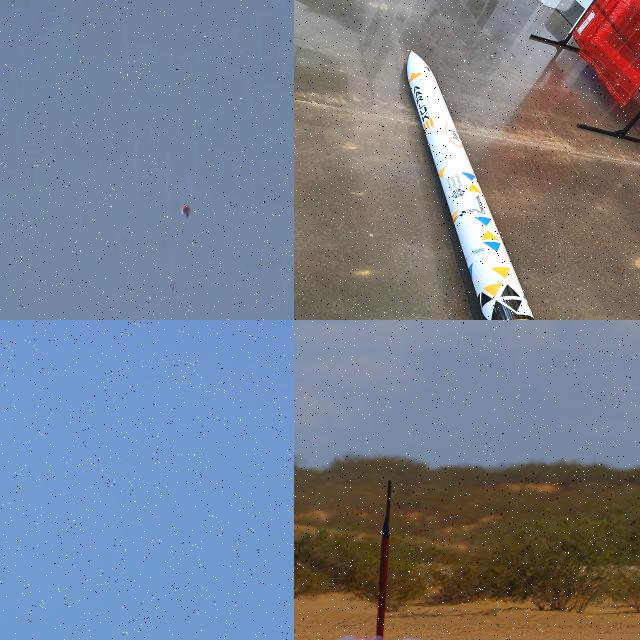Rocket: (406, 50, 535, 320), (364, 512, 395, 640)
